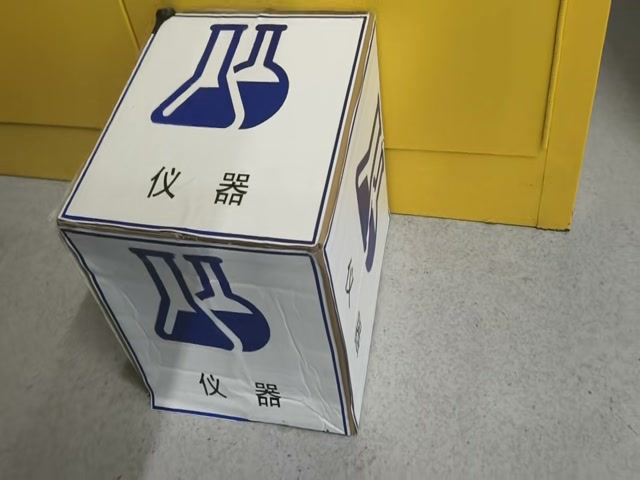Cube_ins: (60, 0, 374, 238)
